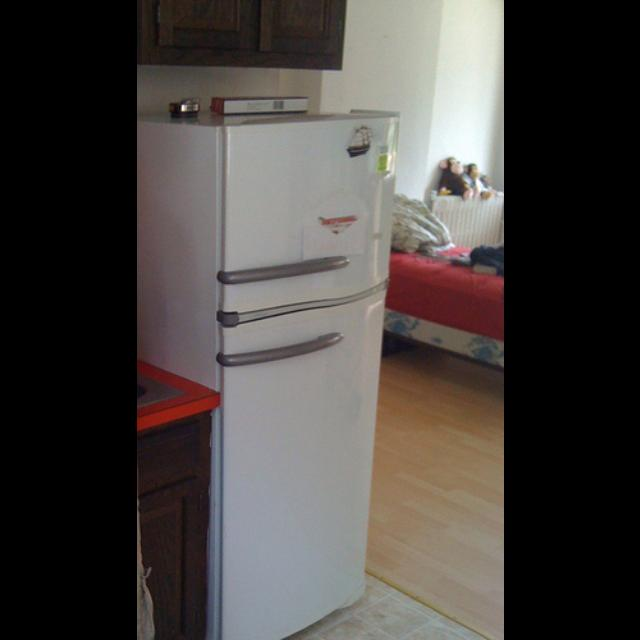Refrigerator: (139, 95, 398, 633)
